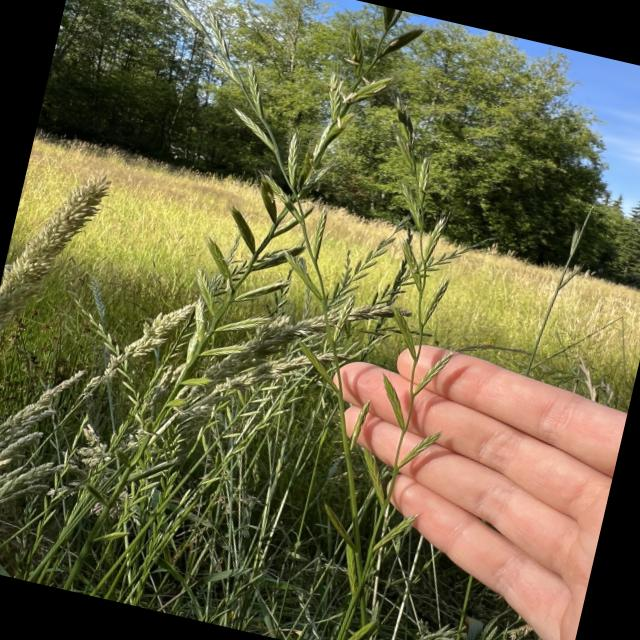Lolium: (134, 0, 425, 489), (0, 257, 197, 572), (0, 156, 119, 355), (349, 202, 454, 380)
